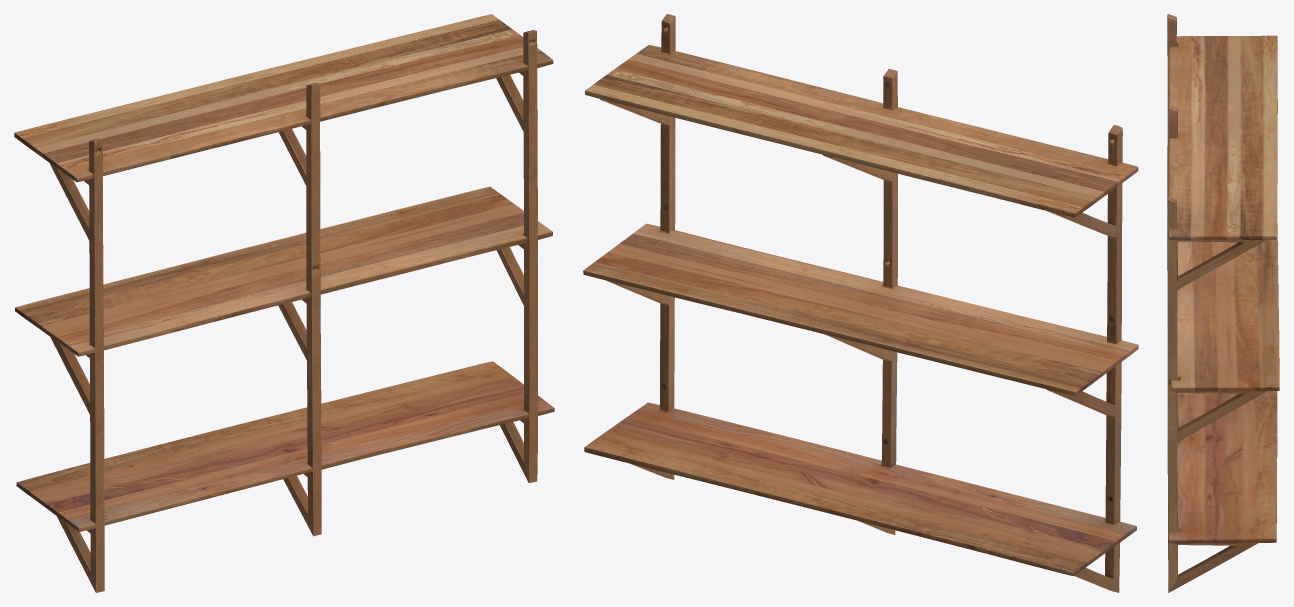
Rendered from shelf.glb.
3 views of the same model, side by side, from view 1: azimuth 30°, elevation 25°; view 2: azimuth 150°, elevation 25°; view 3: azimuth 270°, elevation 25° (orthographic). The views are drawn at different scales.
Parts seen in each view (by area): view 1: vmjhbix_tier_2; view 2: vmjhbix_tier_2; view 3: vmjhbix_tier_2.
Part boxes in pixels (bbox=[...]): vmjhbix_tier_2: bbox=[14, 14, 554, 592]; vmjhbix_tier_2: bbox=[583, 14, 1138, 592]; vmjhbix_tier_2: bbox=[1167, 14, 1279, 592].
Bounding box in the file's own units: 0.8919 × 0.8113 × 0.2086.
1 material, 1 textured.
